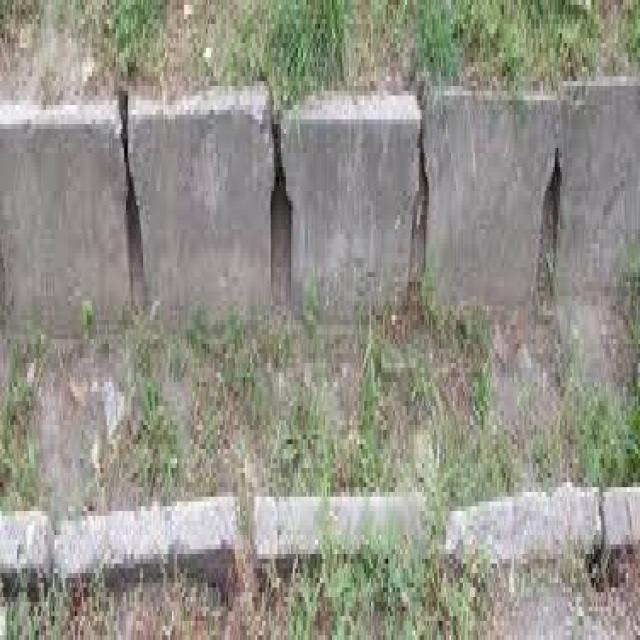curb: (12, 104, 630, 320), (21, 497, 640, 549)
